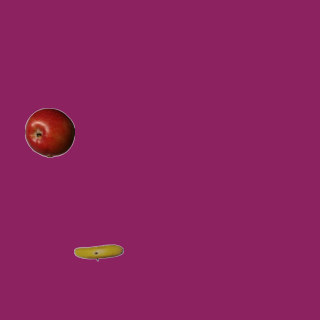Apple Braeburn: (24, 107, 74, 157)
Banana: (73, 227, 123, 277)
